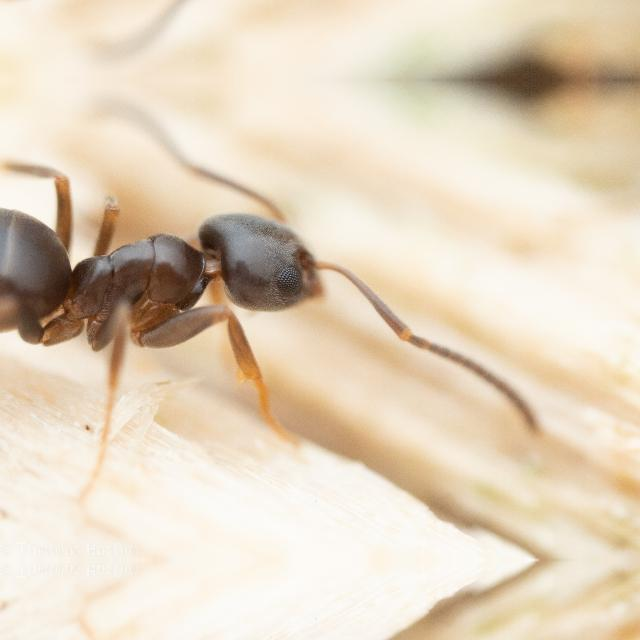Tapinoma: (0, 147, 382, 423)
